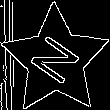N_SE: (25, 29, 87, 91)
